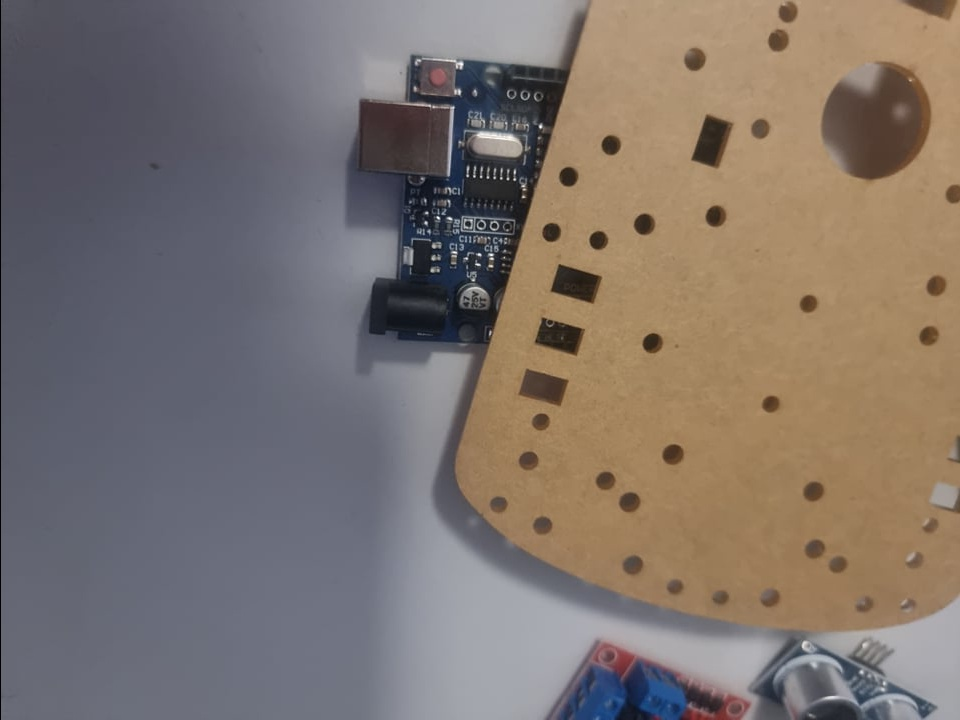UNO R3: (358, 53, 572, 356)
